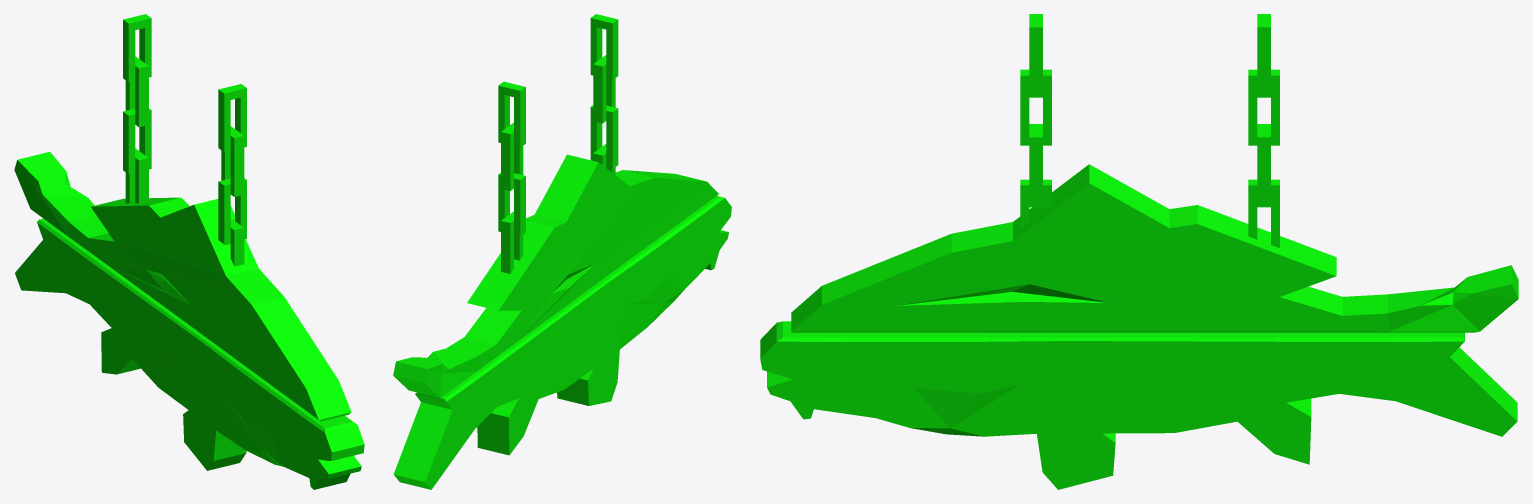
File: SM_Signboard_Fish_Fantasy.fbx
3 renders of one model, left to right at view 1: azimuth 30°, elevation 25°; view 2: azimuth 150°, elevation 25°; view 3: azimuth 270°, elevation 25°, orthographic. The views are drawn at different scales.
Visible parts, largest first — view 1: singboard-fish-fantasy; view 2: singboard-fish-fantasy; view 3: singboard-fish-fantasy.
Boxes of the visible parts, <box> form: singboard-fish-fantasy: <box>14,14,364,489</box>; singboard-fish-fantasy: <box>393,14,731,489</box>; singboard-fish-fantasy: <box>760,14,1518,489</box>.
Bounding box in the file's own units: 0.0979 × 1.08 × 1.61.
